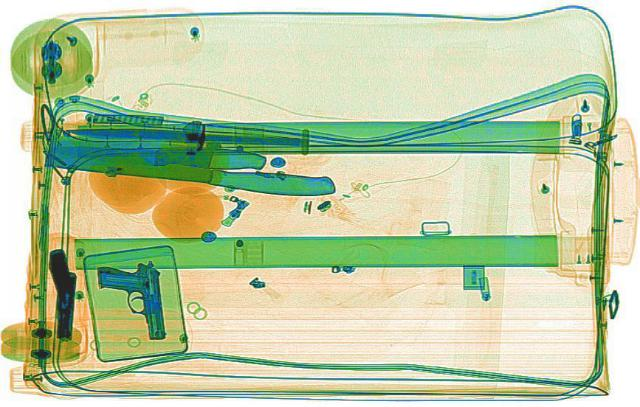Gun: (94, 258, 170, 340), (42, 248, 80, 340)
Knife: (40, 112, 348, 198), (42, 137, 266, 170), (62, 121, 302, 148)
